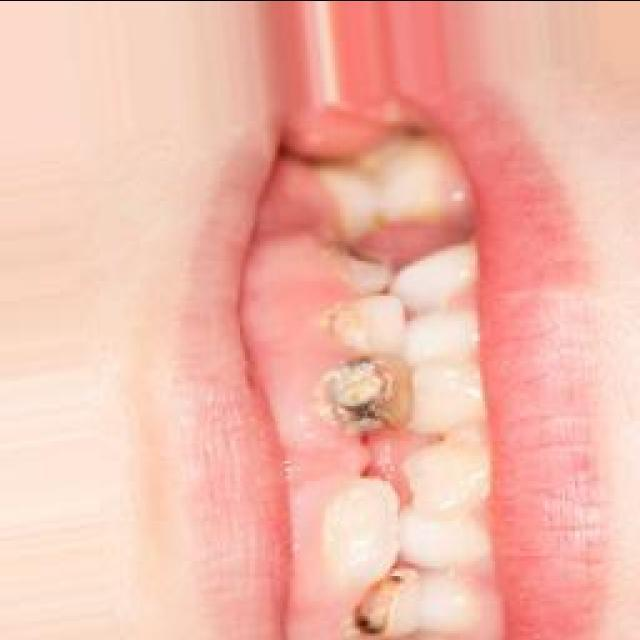caries: (335, 373, 403, 425)
